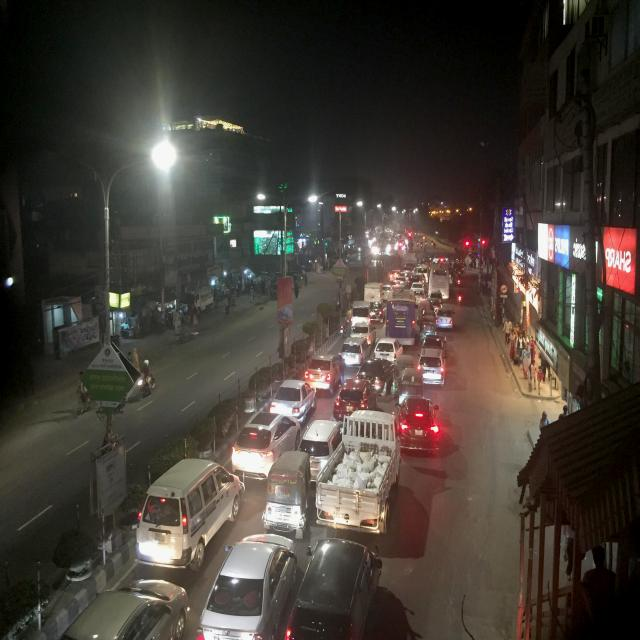black: (282, 538, 387, 640), (396, 396, 440, 456), (354, 357, 393, 398)
maroon: (329, 379, 377, 424)
silver: (53, 573, 194, 640)
white: (133, 462, 239, 567), (197, 534, 297, 640), (231, 414, 303, 481), (295, 419, 346, 482), (270, 381, 317, 428), (303, 355, 343, 394), (418, 349, 447, 387), (340, 337, 370, 368), (372, 337, 403, 363), (350, 322, 376, 348), (351, 299, 370, 330)
